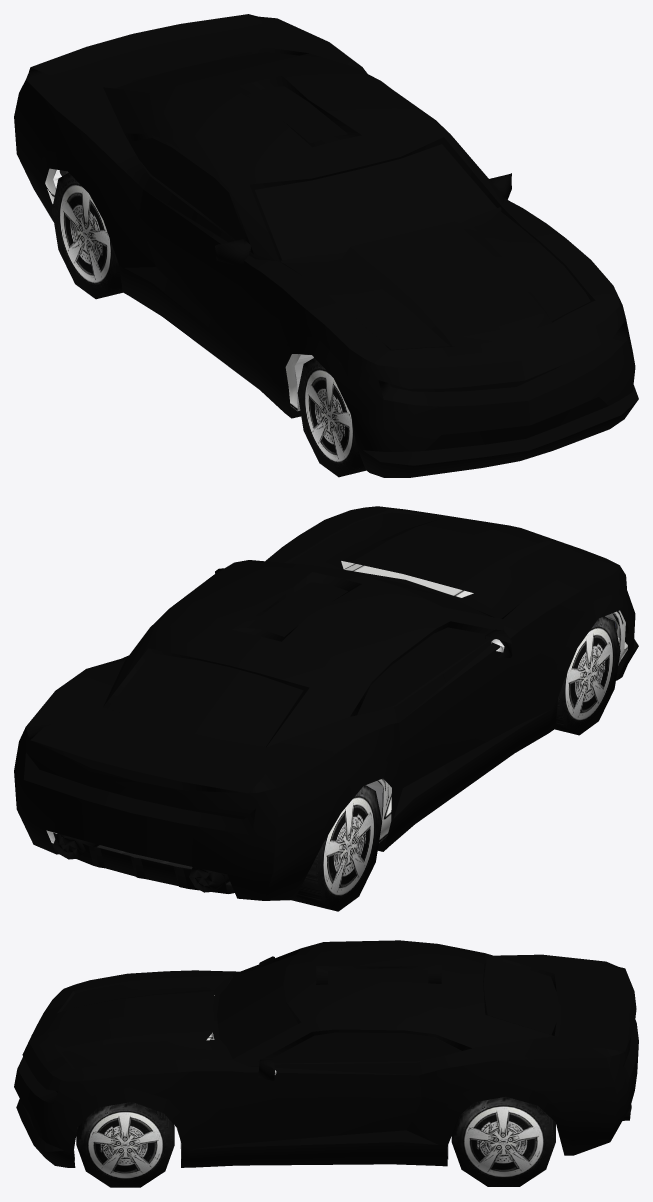
Rendered from Car5.fbx.
3 renders of one model, top to bottom at view 1: azimuth 30°, elevation 25°; view 2: azimuth 150°, elevation 25°; view 3: azimuth 270°, elevation 25°, orthographic. The views are drawn at different scales.
Parts seen in each view (by area): view 1: CarBody, Rear_Right_Wheel, Front_Right_Wheel; view 2: CarBody, Rear_Right_Wheel, Front_Right_Wheel; view 3: CarBody, Rear_Left_Wheel, Front_Left_Wheel.
Part boxes in pixels (bbox=[...]): CarBody: bbox=[14, 14, 638, 477]; Rear_Right_Wheel: bbox=[52, 172, 122, 299]; Front_Right_Wheel: bbox=[297, 358, 366, 477]; CarBody: bbox=[14, 506, 638, 900]; Rear_Right_Wheel: bbox=[291, 785, 381, 911]; Front_Right_Wheel: bbox=[555, 616, 620, 735]; CarBody: bbox=[14, 940, 638, 1167]; Rear_Left_Wheel: bbox=[451, 1097, 555, 1186]; Front_Left_Wheel: bbox=[76, 1102, 174, 1187].
Size of the model in its own units: 16.21 by 10.97 by 37.78.
